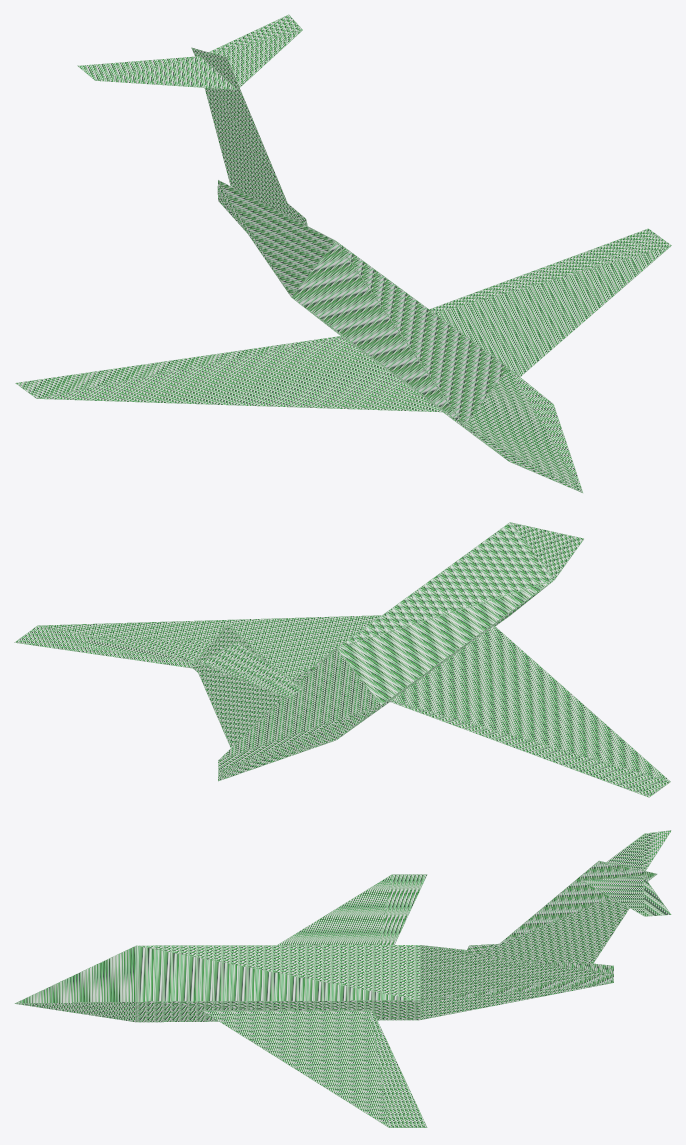
File: JBAI Challenger 605 NoSat MSFS_LOD1.gltf
3 views of the same model, one above another, from view 1: azimuth 30°, elevation 25°; view 2: azimuth 150°, elevation 25°; view 3: azimuth 270°, elevation 25° (orthographic). The views are drawn at different scales.
Visible parts, largest first — view 1: node1; view 2: node1; view 3: node1.
Boxes of the visible parts, left/top/right/bottom form: node1: left=15, top=14, right=671, bottom=492; node1: left=14, top=522, right=670, bottom=797; node1: left=14, top=830, right=671, bottom=1127.
Bounding box in the file's own units: 18.8 × 5.6 × 20.57.
